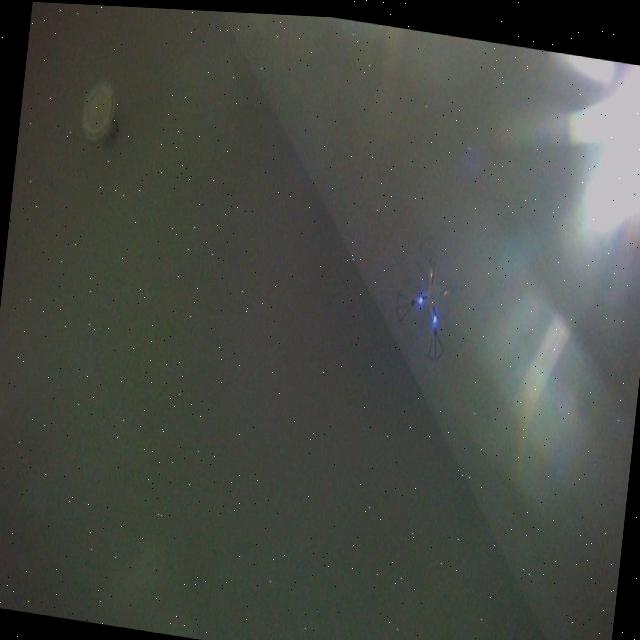drone: (389, 226, 476, 363)
